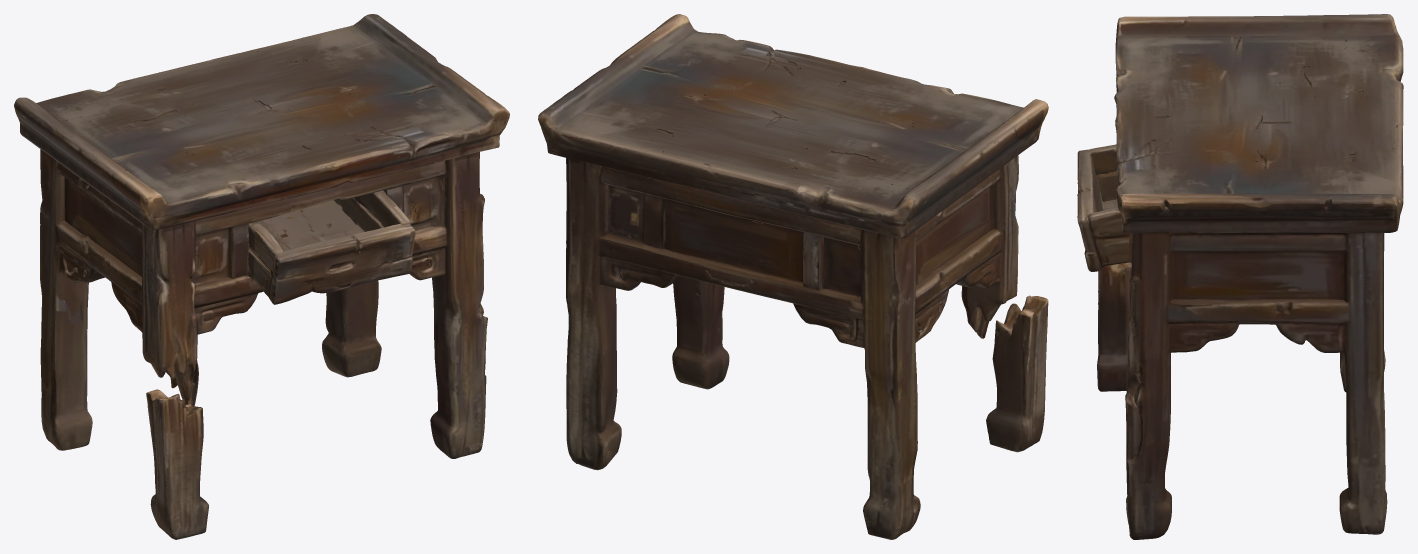
Rendered from desk-broken.glb.
3 views of the same model, side by side, from view 1: azimuth 30°, elevation 25°; view 2: azimuth 150°, elevation 25°; view 3: azimuth 270°, elevation 25° (orthographic). The views are drawn at different scales.
Visible parts, largest first — view 1: geometry_0; view 2: geometry_0; view 3: geometry_0.
Part boxes in pixels (box(x1,y1,x2,y2)): geometry_0: box(14, 14, 509, 539); geometry_0: box(538, 14, 1048, 539); geometry_0: box(1077, 14, 1403, 539).
Bounding box in the file's own units: 1.2 × 1.08 × 0.8941.
1 material, 1 textured.
